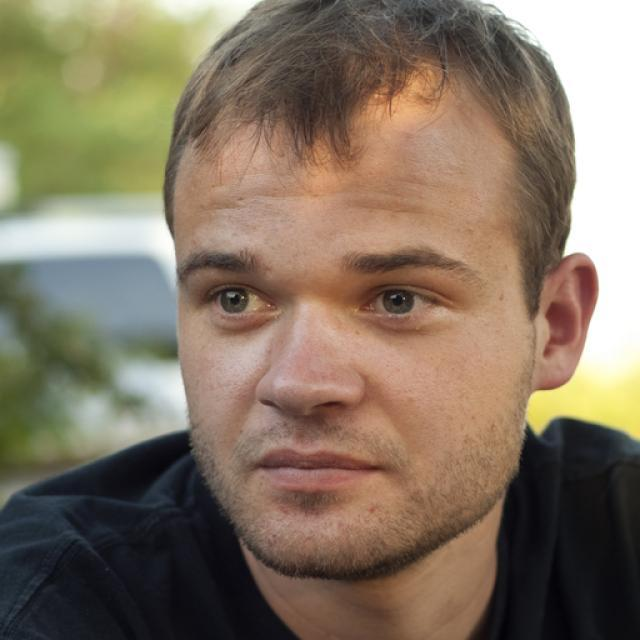neutral: (176, 102, 532, 578)
